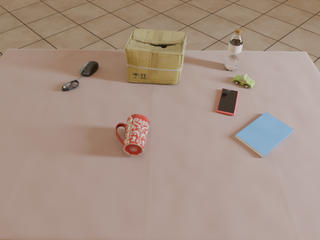book: (235, 112, 294, 158)
bottle: (225, 28, 243, 71)
box: (125, 29, 187, 84)
cup: (115, 114, 150, 156)
mouse: (79, 61, 98, 77)
phone: (217, 89, 238, 115)
toy_car: (233, 74, 255, 88)
